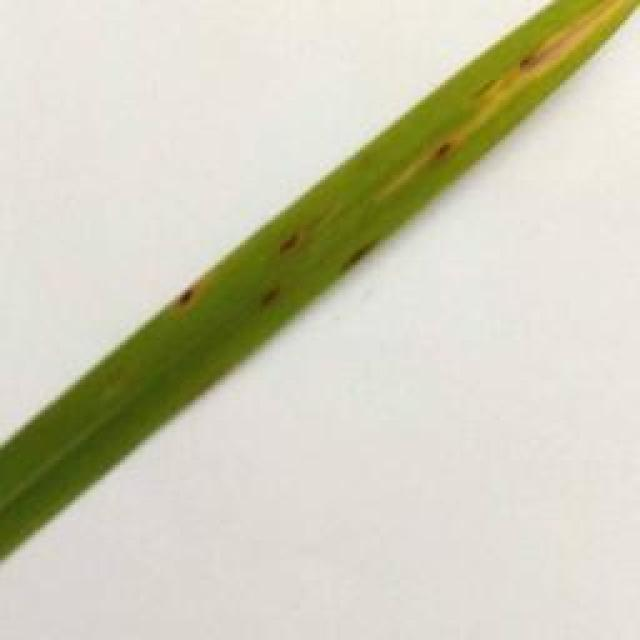Brown_Spot: (339, 232, 385, 282), (262, 222, 314, 256), (170, 280, 208, 316), (253, 286, 297, 317), (510, 42, 545, 80), (425, 135, 462, 165)
